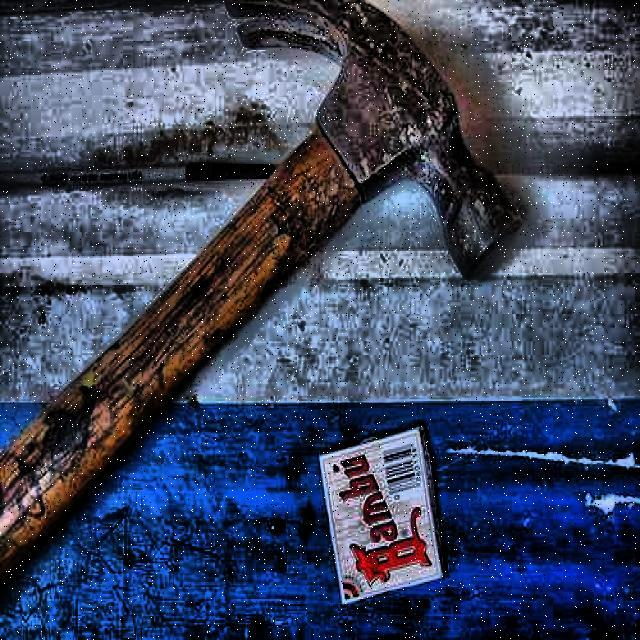hammer: (0, 0, 523, 583)
